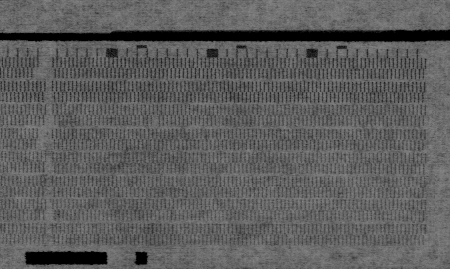Broken hole: (31, 56, 48, 81), (35, 129, 49, 149), (150, 114, 162, 128)
